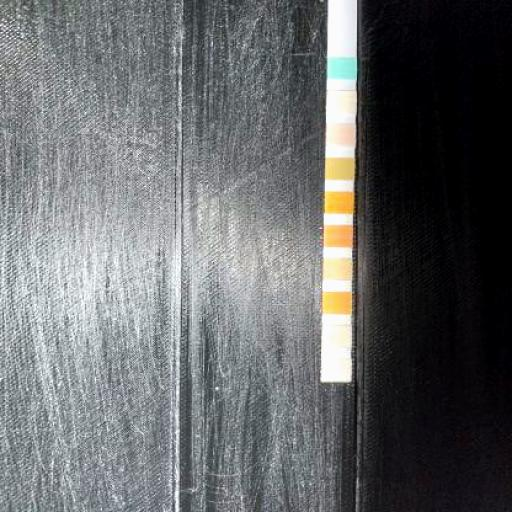Bilirubin: (326, 90, 356, 112)
Blood: (324, 192, 354, 214)
Glucose: (327, 58, 357, 78)
Ketone: (326, 124, 356, 146)
Leukocytes: (321, 359, 351, 381)
Nitrite: (322, 326, 352, 347)
Protein: (324, 258, 352, 280)
SpGravity: (326, 158, 354, 178)
Urobilinogen: (322, 290, 352, 314)
pH: (324, 226, 354, 246)
strip: (321, 1, 356, 382)
